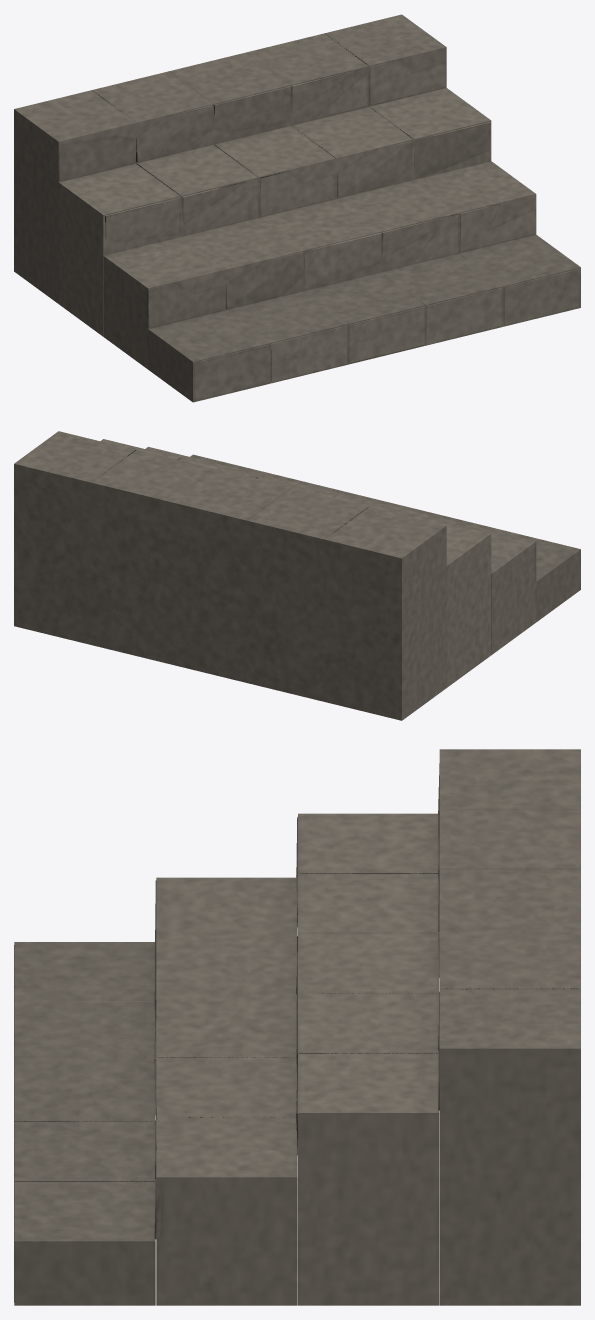
File: arena-stairs.glb
3 views of the same model, one above another, from view 1: azimuth 30°, elevation 25°; view 2: azimuth 150°, elevation 25°; view 3: azimuth 270°, elevation 25° (orthographic). The views are drawn at different scales.
Visible parts, largest first — view 1: arena-stairs; view 2: arena-stairs; view 3: arena-stairs.
Boxes of the visible parts, box(x1,y1,x2,y2) form: arena-stairs: box(14, 14, 580, 402); arena-stairs: box(14, 431, 580, 720); arena-stairs: box(14, 749, 580, 1305).
Bounding box in the file's own units: 3 × 1.2 × 2.4.
Materials: 1 (1 with a texture image).
